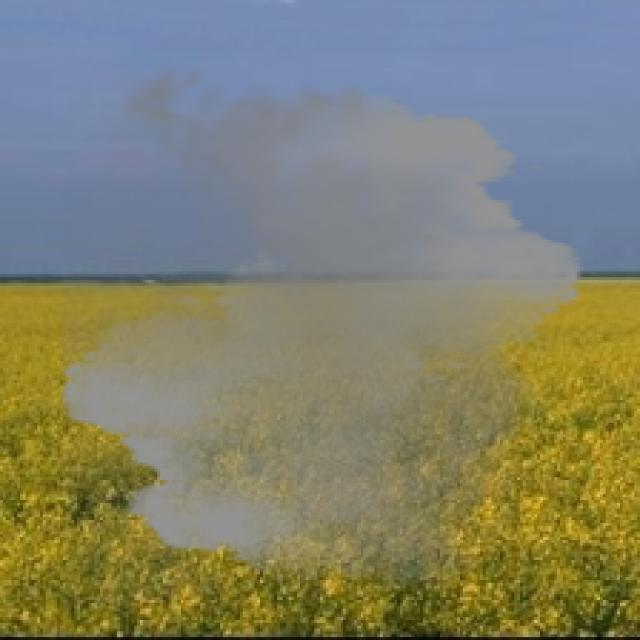smoke: (43, 48, 600, 603)
